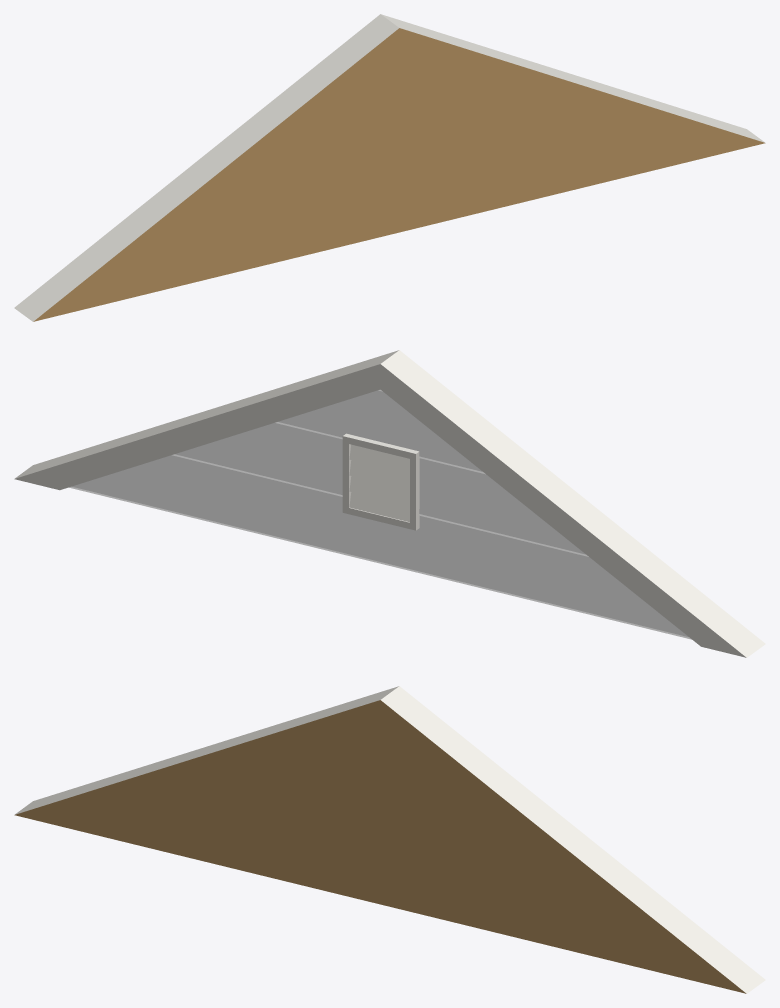
File: house_gable_6.glb
3 views of the same model, one above another, from view 1: azimuth 30°, elevation 25°; view 2: azimuth 150°, elevation 25°; view 3: azimuth 330°, elevation 25° (orthographic).
Parts seen in each view (by area): view 1: house_gable_6__mesh; view 2: house_gable_6__mesh; view 3: house_gable_6__mesh.
Part boxes in pixels (<box>): house_gable_6__mesh: <box>14,14,765,321</box>; house_gable_6__mesh: <box>14,350,765,657</box>; house_gable_6__mesh: <box>14,686,765,993</box>.
Size of what is drawn, in the model's own units: 6 by 1.6 by 0.285.
Materials: 1 (1 with a texture image).
